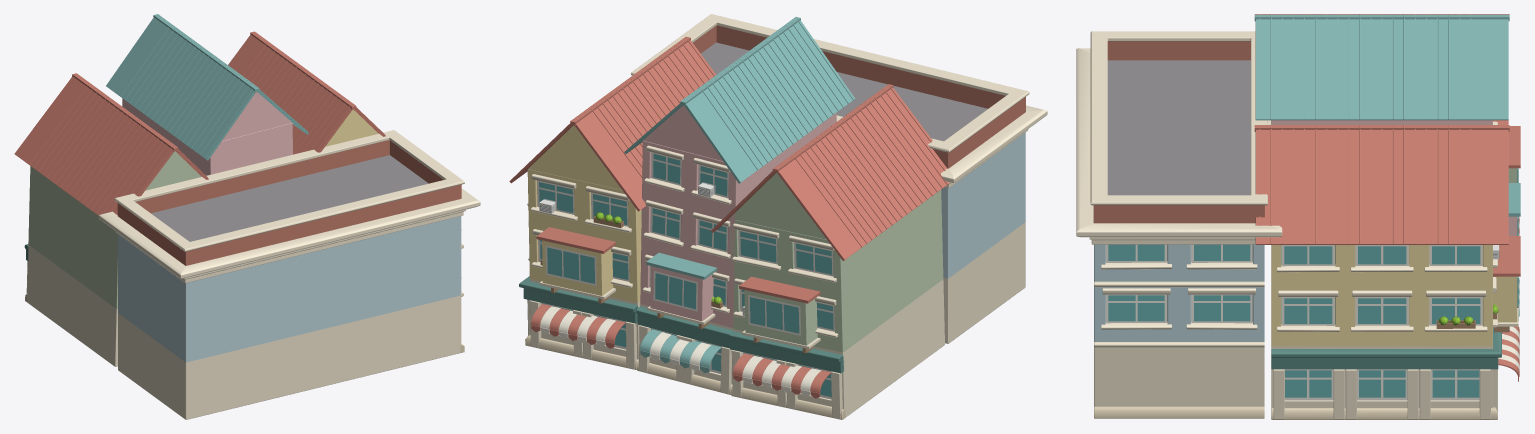
The model's file is townhouse_row.glb.
3 views of the same model, side by side, from view 1: azimuth 30°, elevation 25°; view 2: azimuth 150°, elevation 25°; view 3: azimuth 270°, elevation 25° (orthographic). The views are drawn at different scales.
Visible parts, largest first — view 1: shell.003, trim.003, props.002, props.001, shell.002, props, shell.001; view 2: props.002, shell.002, props.001, shell.003, props, trim.003, shell.001, shell, trim.002, trim.001, trim, awnings.002 (+5 smaller); view 3: shell.003, props, props.001, trim.003, shell, trim, frames, frames.003, shell.001, props.002, awnings.
Boxes of the visible parts, bbox=[...] form: shell.003: bbox=[118, 155, 461, 419]; trim.003: bbox=[98, 130, 480, 352]; props.002: bbox=[14, 73, 208, 215]; props.001: bbox=[106, 14, 308, 160]; shell.002: bbox=[27, 166, 117, 366]; props: bbox=[228, 31, 385, 154]; shell.001: bbox=[122, 98, 292, 175]; props.002: bbox=[711, 84, 949, 353]; shell.002: bbox=[729, 190, 944, 417]; props.001: bbox=[624, 17, 855, 328]; shell.003: bbox=[701, 42, 1025, 343]; props: bbox=[509, 36, 715, 303]; trim.003: bbox=[631, 14, 1047, 188]; shell.001: bbox=[640, 113, 836, 384]; shell: bbox=[527, 169, 641, 359]; trim.002: bbox=[728, 223, 845, 419]; trim.001: bbox=[636, 145, 733, 394]; trim: bbox=[519, 174, 638, 369]; awnings.002: bbox=[732, 353, 830, 398]; shell.003: bbox=[1094, 60, 1264, 406]; props: bbox=[1254, 125, 1520, 332]; props.001: bbox=[1254, 14, 1520, 235]; trim.003: bbox=[1076, 31, 1282, 418]; shell: bbox=[1271, 245, 1492, 408]; trim: bbox=[1271, 259, 1501, 419]; frames: bbox=[1281, 245, 1482, 400]; frames.003: bbox=[1106, 244, 1252, 323]; shell.001: bbox=[1271, 120, 1492, 124]; props.002: bbox=[1254, 14, 1520, 182]; awnings: bbox=[1498, 326, 1519, 381].
Bounding box in the file's own units: 19.66 × 15.8 × 20.05.
22 materials, 2 textured.
